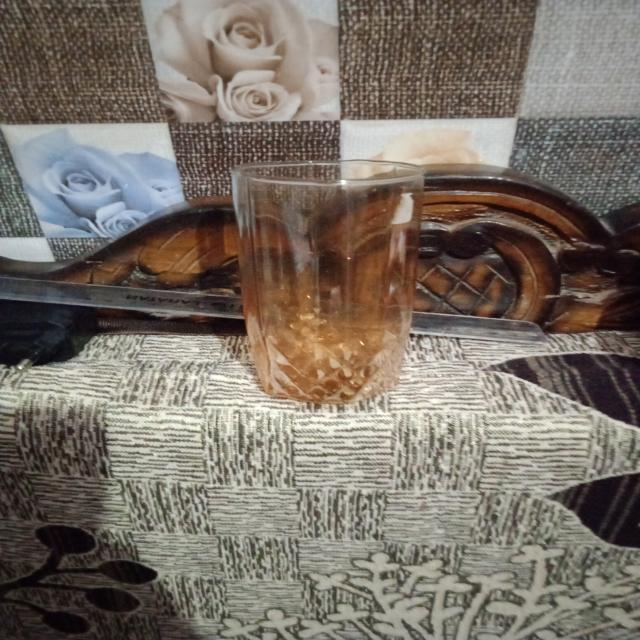Glass: (227, 156, 428, 407)
